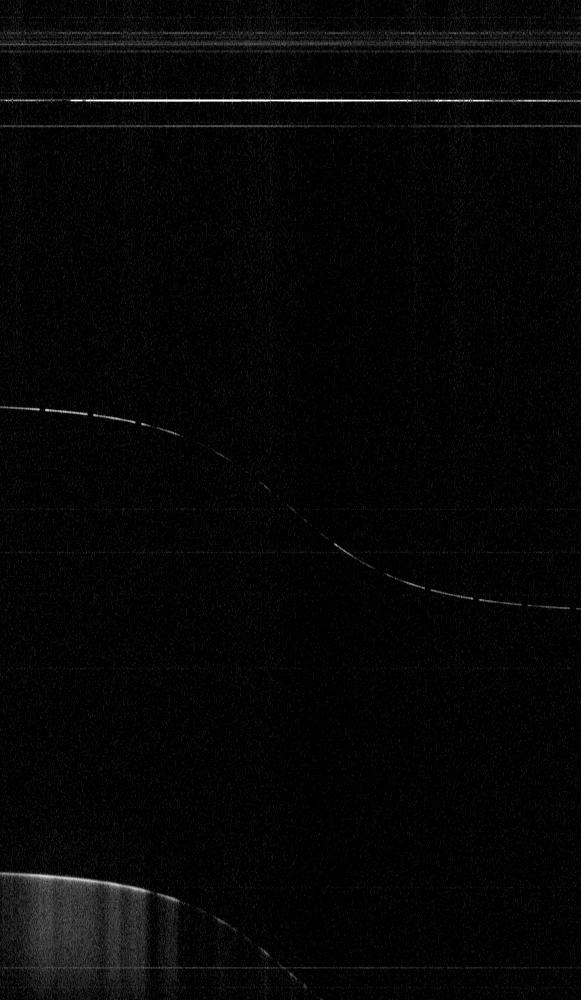signal: (0, 0, 580, 999)
